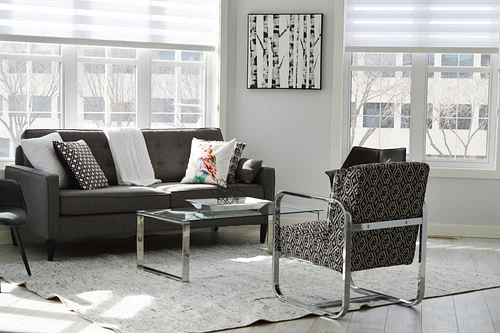chair: (271, 160, 430, 320)
sofa: (4, 126, 278, 262)
table: (133, 206, 322, 281)
wall art: (244, 10, 325, 90)
